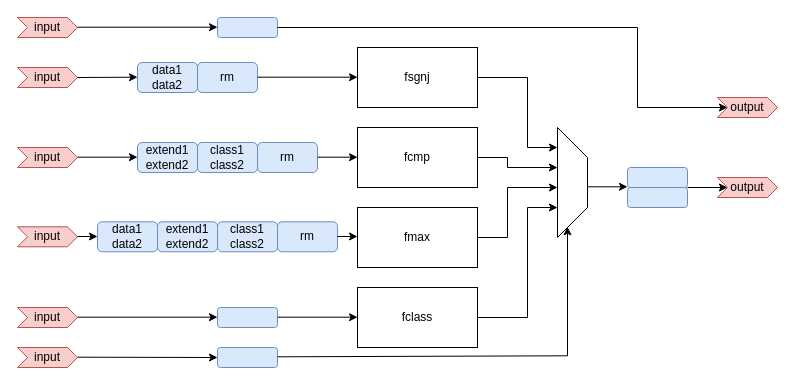
The diagram is 795 pixels wide and 385 high, and some of its shapes have lost their labels. Here are the shapes that lost their labels. From the top down, the centre of each, then its label:
pixel 247 27: tag
pixel 572 182: mux
pixel 657 177: result
pixel 657 197: flags
pixel 247 317: class1
pixel 247 357: op
